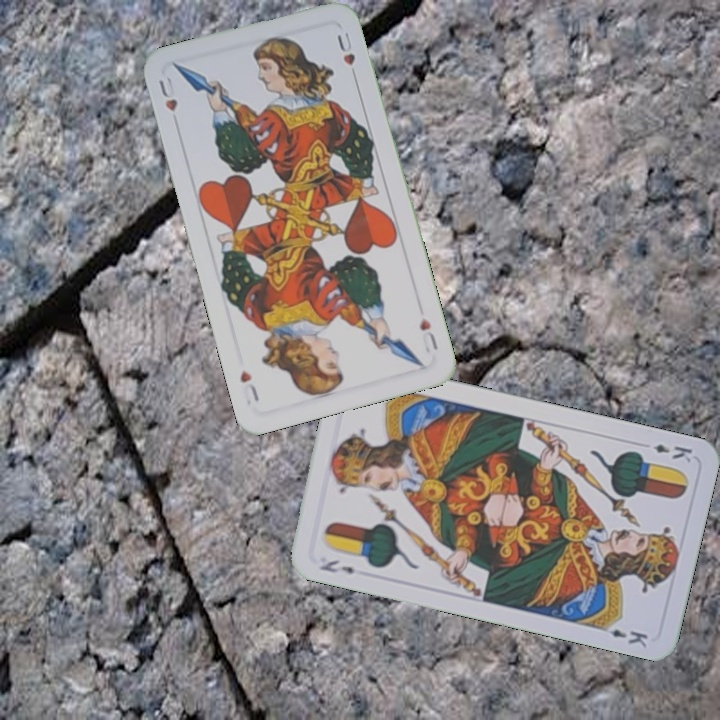EK: (649, 440, 695, 465), (316, 555, 357, 577)
HU: (415, 314, 441, 356), (155, 73, 180, 114)
